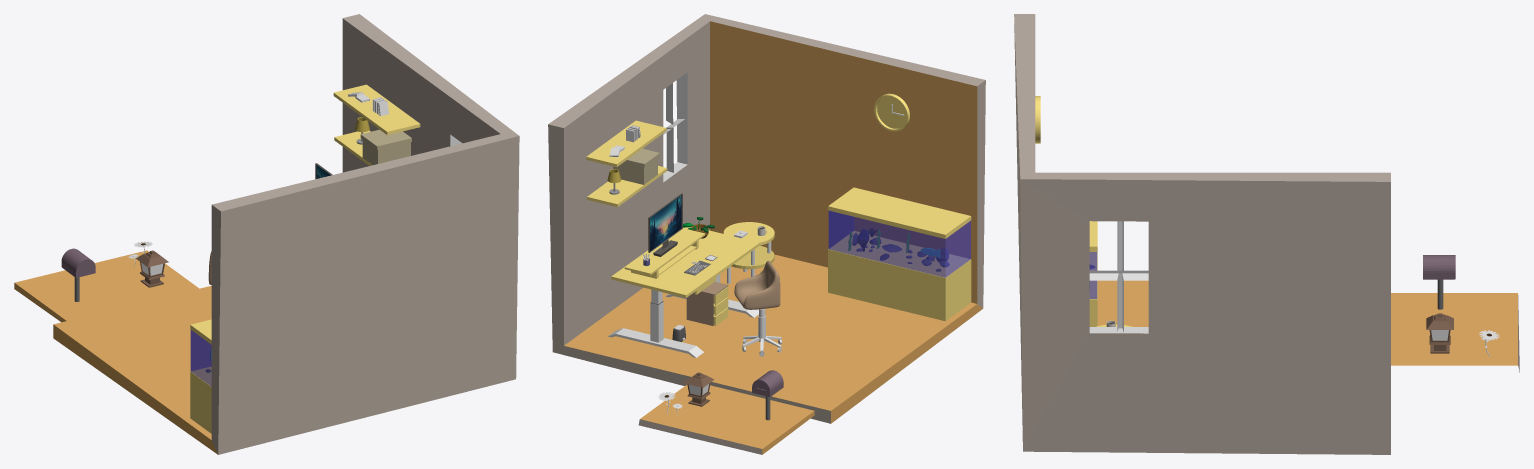
3 renders of one model, left to right at view 1: azimuth 30°, elevation 25°; view 2: azimuth 150°, elevation 25°; view 3: azimuth 270°, elevation 25°, orthographic. The views are drawn at different scales.
Parts seen in each view (by area): view 1: Cube, Cube.344, Cube.326, Cube.335, Cube.327, Cube.345, Cylinder.015, Plane.006, Cube.325; view 2: Cube, Cube.335, Cube.344, Cube.345, Table Top, Cube.334, Cube.004, Cube.326, Screen, Cube.327, Cylinder.014, Cube.003 (+10 smaller); view 3: Cube, Cube.344, Plane, Cylinder.015, Cube.335, Plane.006.
Boxes of the visible parts, x1,y1,x2,y2 form: Cube: [53, 14, 519, 454]; Cube.344: [14, 250, 198, 322]; Cube.326: [333, 84, 420, 134]; Cube.335: [190, 319, 211, 433]; Cube.327: [360, 129, 411, 164]; Cube.345: [190, 330, 211, 386]; Cylinder.015: [61, 248, 95, 277]; Plane.006: [136, 250, 168, 287]; Cube.325: [334, 130, 372, 165]; Cube: [548, 14, 985, 423]; Cube.335: [828, 187, 971, 321]; Cube.344: [638, 384, 814, 454]; Cube.345: [828, 210, 970, 277]; Table Top: [611, 226, 759, 297]; Cube.334: [734, 260, 780, 309]; Cube.004: [624, 228, 705, 278]; Cube.326: [586, 120, 666, 167]; Screen: [650, 195, 681, 251]; Cube.327: [613, 148, 659, 184]; Cylinder.014: [874, 93, 909, 131]; Cube.003: [686, 281, 728, 326]; Cube: [1014, 14, 1390, 454]; Cube.344: [1391, 293, 1519, 372]; Plane: [1089, 221, 1148, 332]; Cylinder.015: [1423, 255, 1455, 279]; Cube.335: [1089, 221, 1097, 326]; Plane.006: [1426, 313, 1453, 353].
Size of the model in its own units: 16.72 by 13.02 by 21.28.
63 materials, 1 textured.
